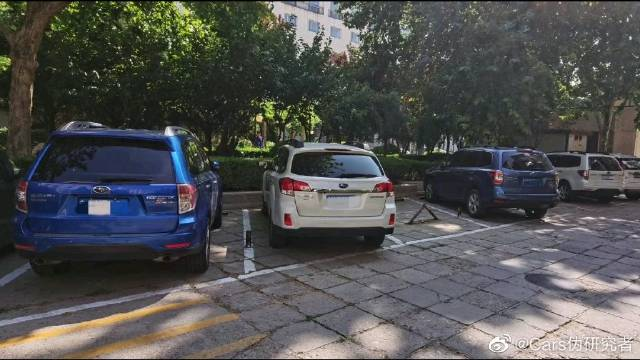other: (20, 117, 219, 278), (261, 132, 402, 247), (419, 137, 557, 221), (551, 153, 623, 205)
